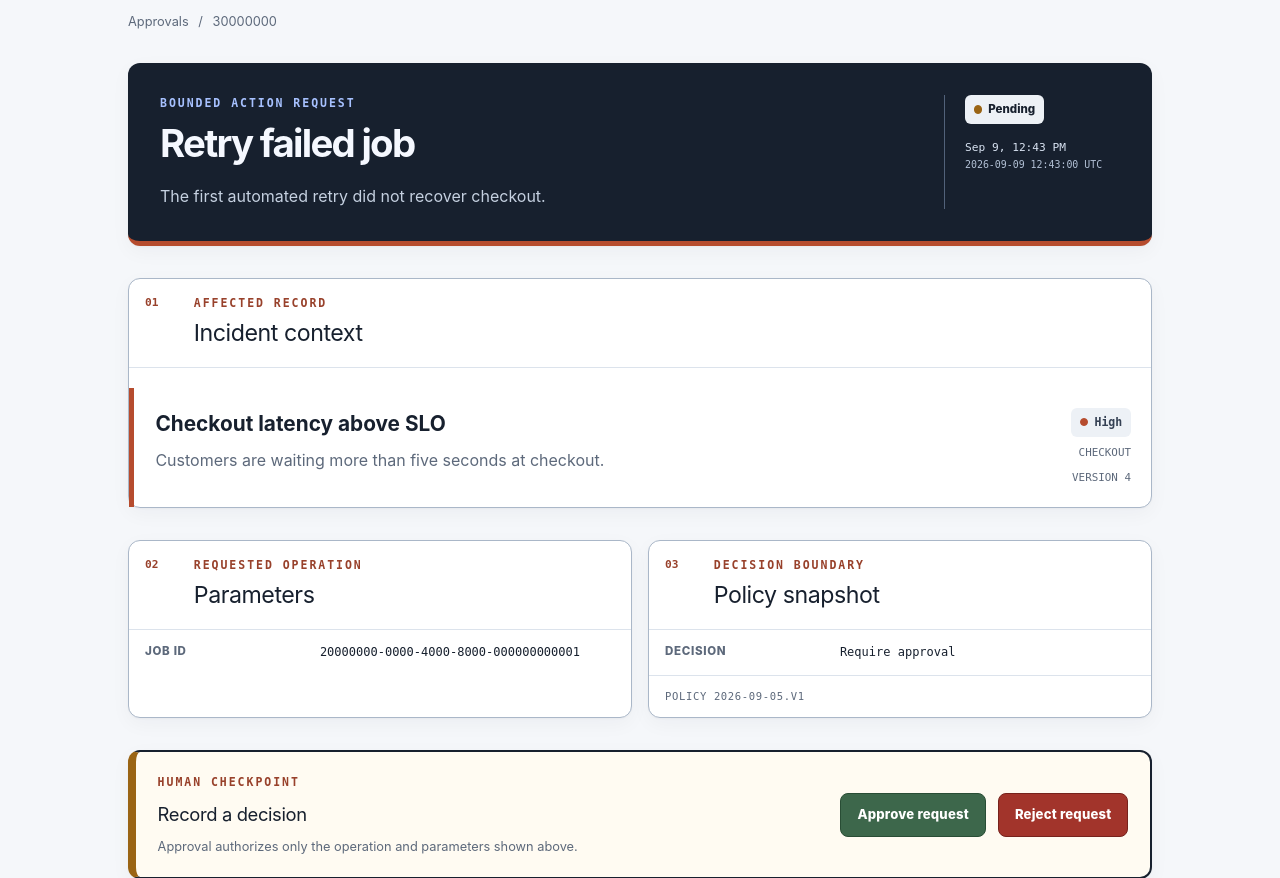
ApprovalDetailScreen › refreshes an approval race and explains the other operator's decision
Click the button "Approve request".
click(913, 815)  # box [840,793,986,837]
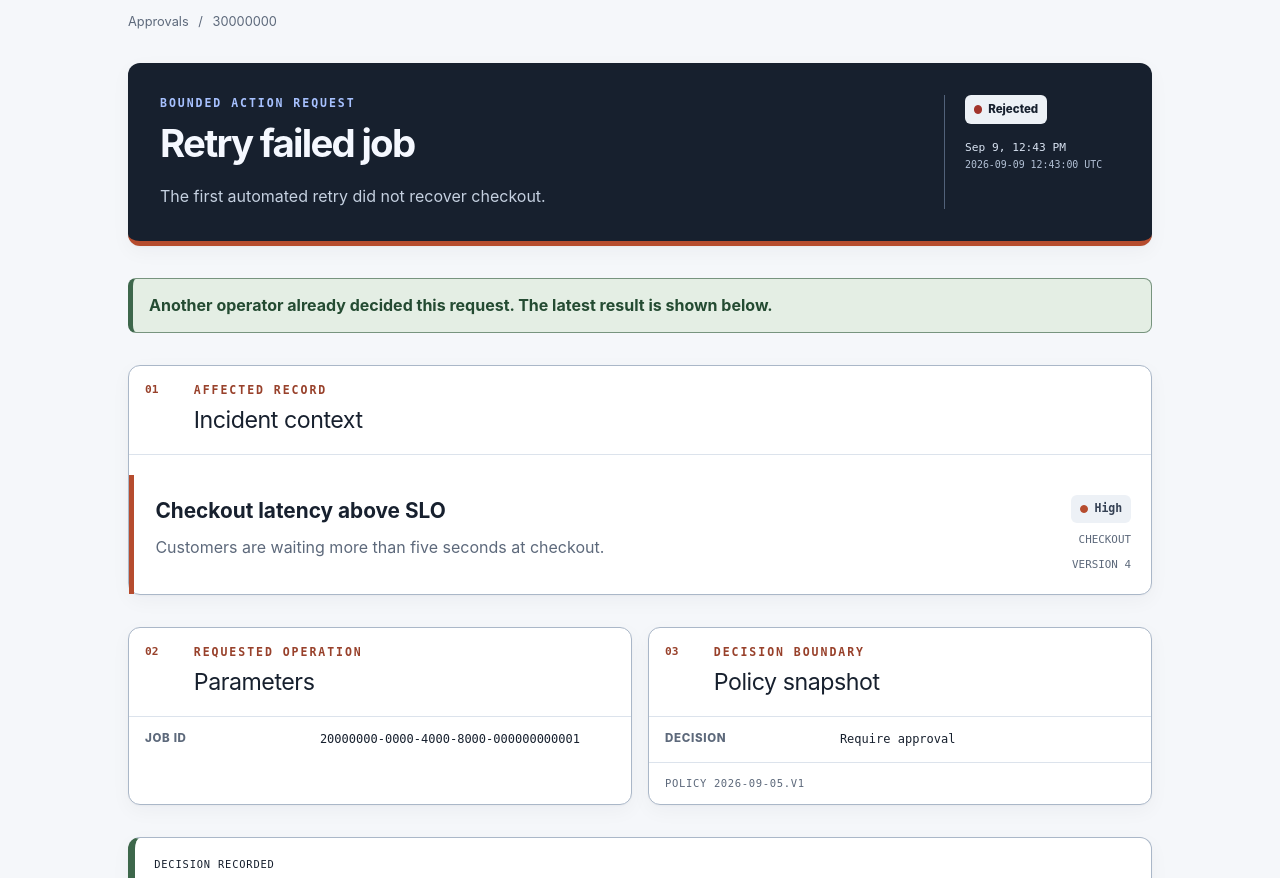
Expected: the text "Another operator already decided this request. The latest result is shown below." is shown, [128,278,1152,333]
Expected: the text "Rejected" is shown, [965,95,1047,124]
Expected: the button "Approve request" is gone
